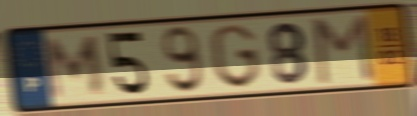5: (104, 30, 152, 97)
8: (266, 19, 311, 87)
9: (159, 23, 207, 97)
G: (207, 22, 264, 91)
M: (311, 12, 377, 87), (45, 34, 107, 102)
